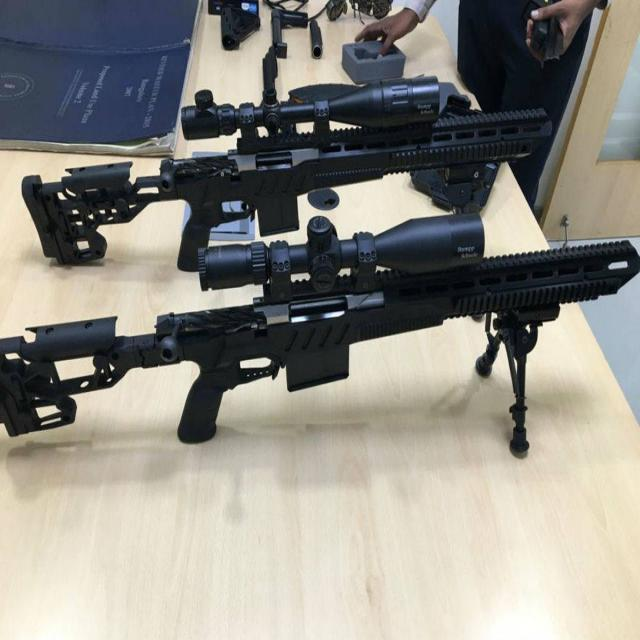scope: (199, 200, 488, 299), (178, 75, 447, 126)
sniper rifle: (14, 241, 640, 459), (33, 89, 558, 261)
